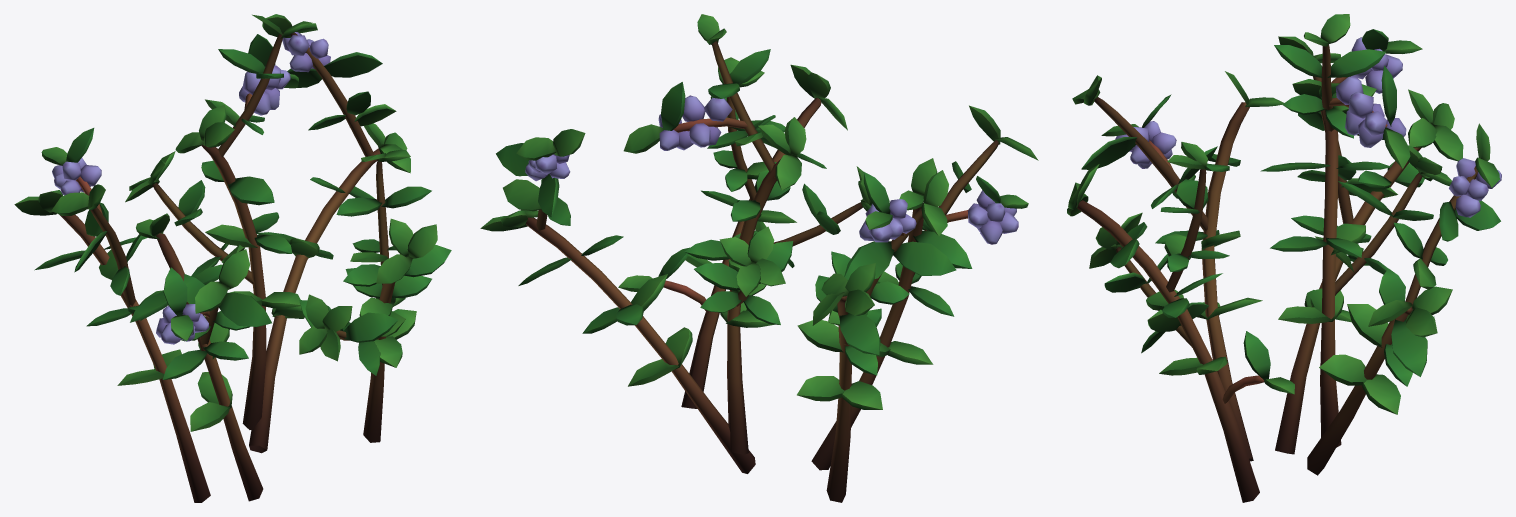
The model's file is SM_Plant_Blueberry_Lv2.fbx.
3 renders of one model, left to right at view 1: azimuth 30°, elevation 25°; view 2: azimuth 150°, elevation 25°; view 3: azimuth 270°, elevation 25°, orthographic. The views are drawn at different scales.
Visible parts, largest first — view 1: SM_Plant_Blueberry_Lv2; view 2: SM_Plant_Blueberry_Lv2; view 3: SM_Plant_Blueberry_Lv2.
Boxes of the visible parts, bbox=[...] form: SM_Plant_Blueberry_Lv2: bbox=[14, 14, 451, 502]; SM_Plant_Blueberry_Lv2: bbox=[480, 14, 1038, 502]; SM_Plant_Blueberry_Lv2: bbox=[1067, 14, 1501, 502].
Size of the model in its own units: 51.03 by 55.31 by 44.76.
